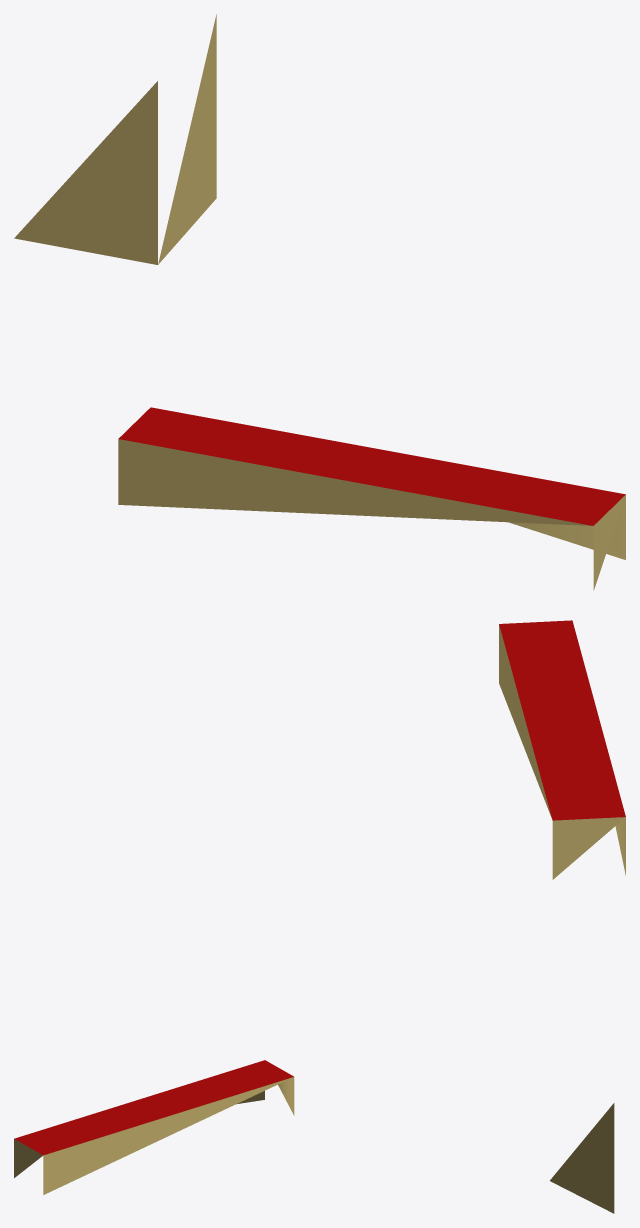
3 renders of one model, top to bottom at view 1: azimuth 30°, elevation 25°; view 2: azimuth 150°, elevation 25°; view 3: azimuth 270°, elevation 25°, orthographic. The views are drawn at different scales.
Bounding box in the file's own units: 76.93 × 35 × 174.
